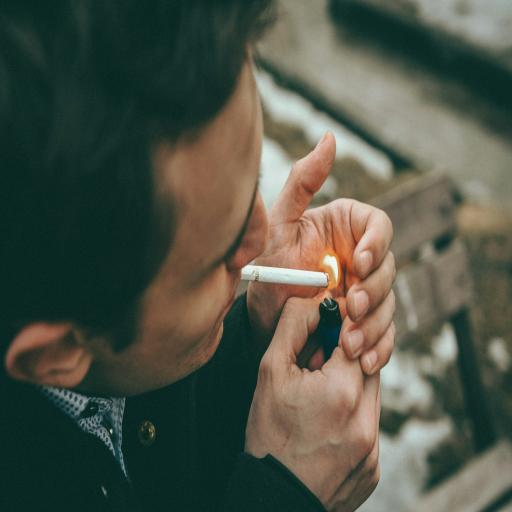lighter: (300, 249, 345, 365)
